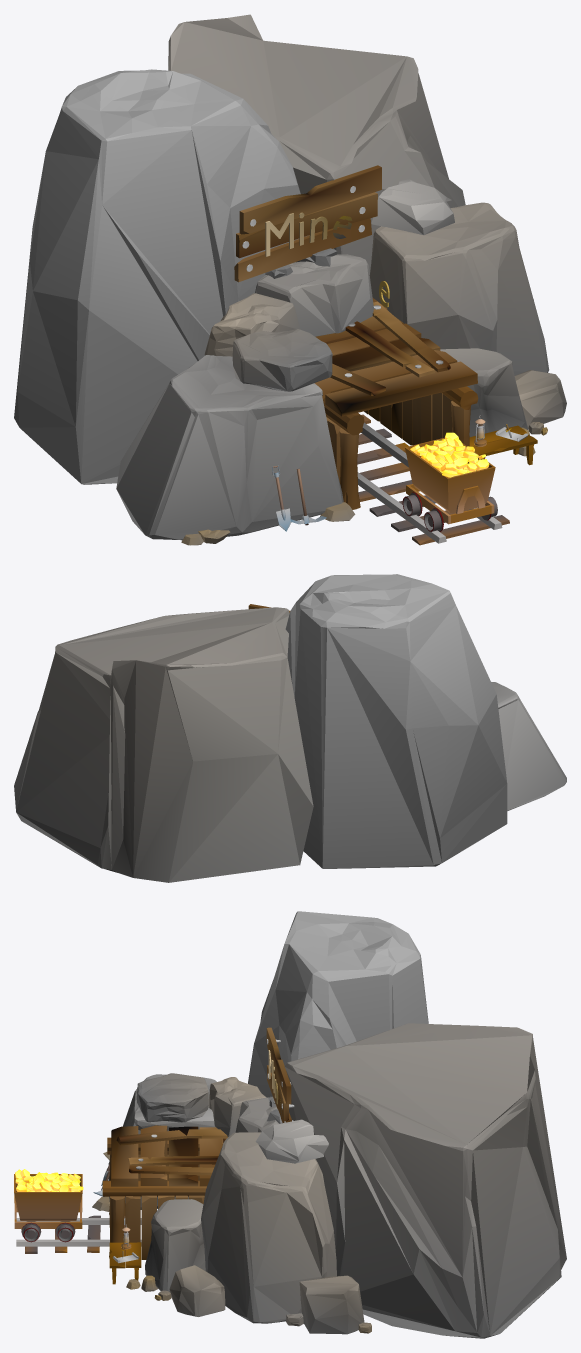
File: gold_mine.glb
3 views of the same model, one above another, from view 1: azimuth 30°, elevation 25°; view 2: azimuth 150°, elevation 25°; view 3: azimuth 270°, elevation 25° (orthographic). The views are drawn at different scales.
Parts seen in each view (by area): view 1: Cylinder.010, Cylinder.013, Cylinder.009, Cylinder.011, Cylinder.024, Cylinder.016, Cylinder.012, Cube.085, Cube.005, Cylinder.028, Cylinder.025, Cube.035 (+16 smaller); view 2: Cylinder.009, Cylinder.010, Cylinder.013; view 3: Cylinder.009, Cylinder.010, Cylinder.011, Cylinder.012, Cylinder.021, Cylinder.016, Cylinder.028, Cylinder.015, Cube.035, Cylinder.025, Cube.005, Cylinder.013 (+14 smaller).
Part boxes in pixels (box(x1,y1,x2,y2)): Cylinder.010: box(14, 69, 307, 484); Cylinder.013: box(116, 355, 343, 540); Cylinder.009: box(168, 14, 465, 274); Cylinder.011: box(369, 202, 549, 375); Cylinder.024: box(255, 254, 373, 336); Cylinder.016: box(232, 329, 332, 391); Cylinder.012: box(440, 348, 528, 436); Cube.085: box(239, 165, 381, 234); Cube.005: box(325, 361, 477, 416); Cylinder.028: box(371, 179, 454, 235); Cylinder.025: box(204, 293, 300, 356); Cube.035: box(405, 437, 495, 513); Cylinder.009: box(14, 607, 313, 882); Cylinder.010: box(285, 574, 507, 868); Cylinder.013: box(491, 682, 566, 810); Cylinder.009: box(284, 1023, 566, 1338); Cylinder.010: box(248, 911, 428, 1097); Cylinder.011: box(201, 1132, 336, 1323); Cylinder.012: box(145, 1199, 205, 1291); Cylinder.021: box(299, 1275, 364, 1334); Cylinder.016: box(136, 1073, 208, 1122); Cylinder.028: box(255, 1119, 328, 1163); Cylinder.015: box(169, 1265, 225, 1316); Cube.035: box(14, 1174, 82, 1220); Cylinder.025: box(208, 1077, 266, 1136); Cube.005: box(111, 1126, 138, 1186); Cylinder.013: box(108, 1074, 216, 1209).
Size of the model in its own units: 6.95 by 4.19 by 8.15.
